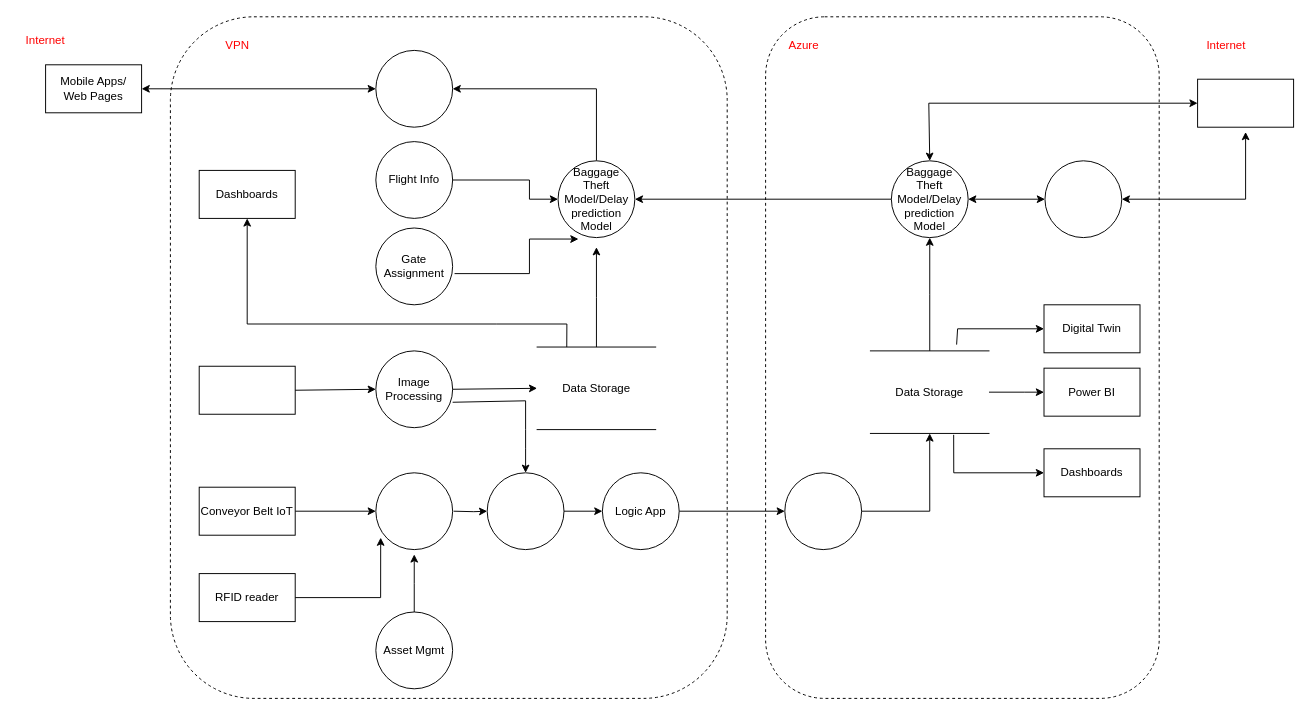
Image size: 1310x715. Some labels were removed from this diagram. The centre of each missing label's shape, as x and y in pixels:
Camera Feed: (x=246, y=389)
Kafka: (x=823, y=511)
Mobile App/ Web Pages: (x=1245, y=102)
MQTT: (x=525, y=511)
OPC UA: (x=414, y=511)
Open AI Endpoint: (x=1083, y=199)
User Facing App: (x=414, y=88)
